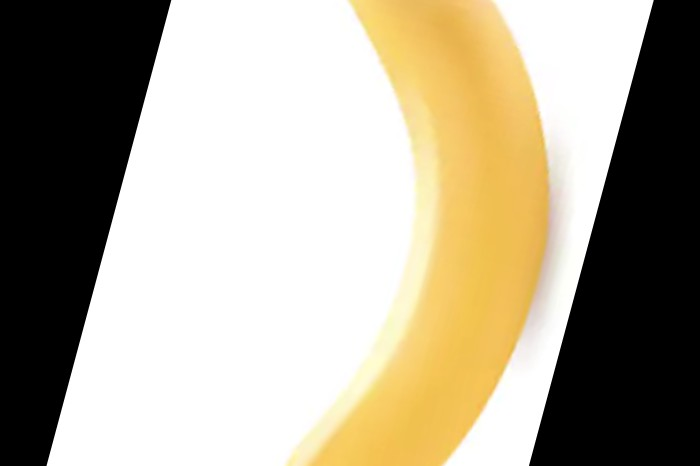fresh_banana: (287, 1, 553, 466)
